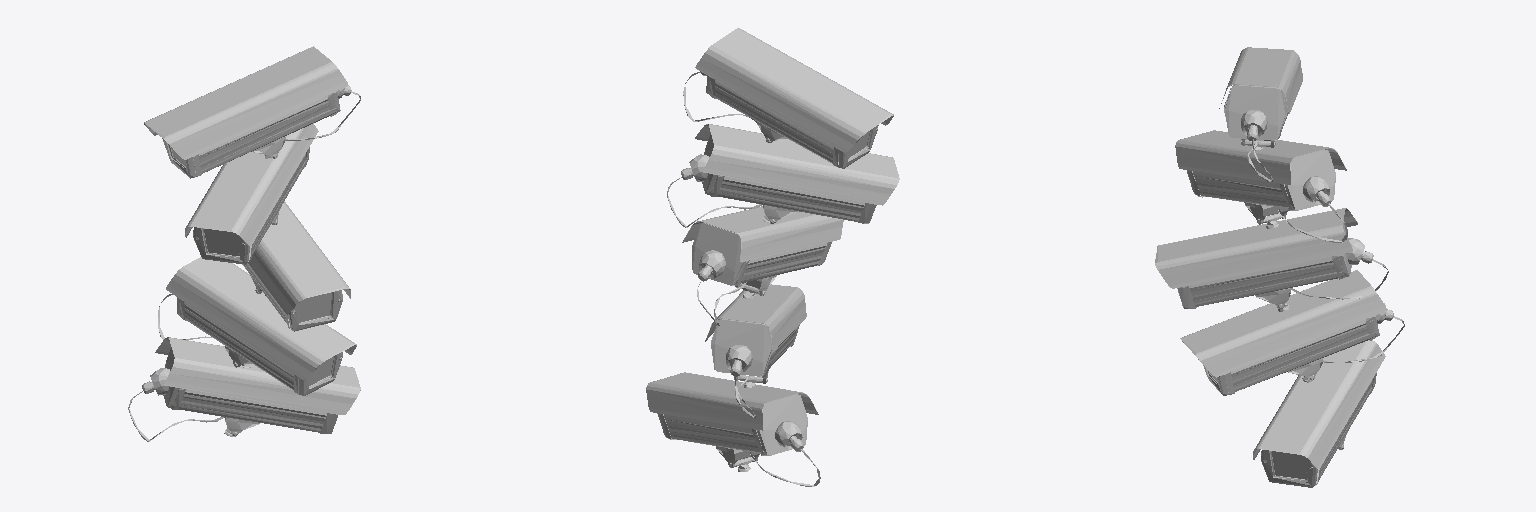
The picture shows the model from 3 angles: view 1: azimuth 30°, elevation 25°; view 2: azimuth 150°, elevation 25°; view 3: azimuth 270°, elevation 25°; orthographic projection.
Parts seen in each view (by area): view 1: CAMTOP, EYECAM, CCTV, LURKER, CAM; view 2: CAMTOP, LURKER, CCTV, CAM, EYECAM; view 3: CAM, EYECAM, LURKER, CCTV, CAMTOP.
Boxes of the visible parts, <box> form: CAMTOP: <box>144,46,360,178</box>; EYECAM: <box>158,257,356,395</box>; CCTV: <box>128,337,360,441</box>; LURKER: <box>185,123,318,264</box>; CAM: <box>242,201,350,331</box>; CAMTOP: <box>683,28,893,168</box>; LURKER: <box>667,124,899,227</box>; CCTV: <box>646,372,820,486</box>; CAM: <box>682,206,843,325</box>; EYECAM: <box>705,284,806,417</box>; CAM: <box>1155,208,1388,311</box>; EYECAM: <box>1180,270,1404,395</box>; LURKER: <box>1175,130,1347,242</box>; CCTV: <box>1253,340,1385,487</box>; CAMTOP: <box>1219,47,1302,182</box>.
Size of the model in its own units: 152 by 265 by 152.